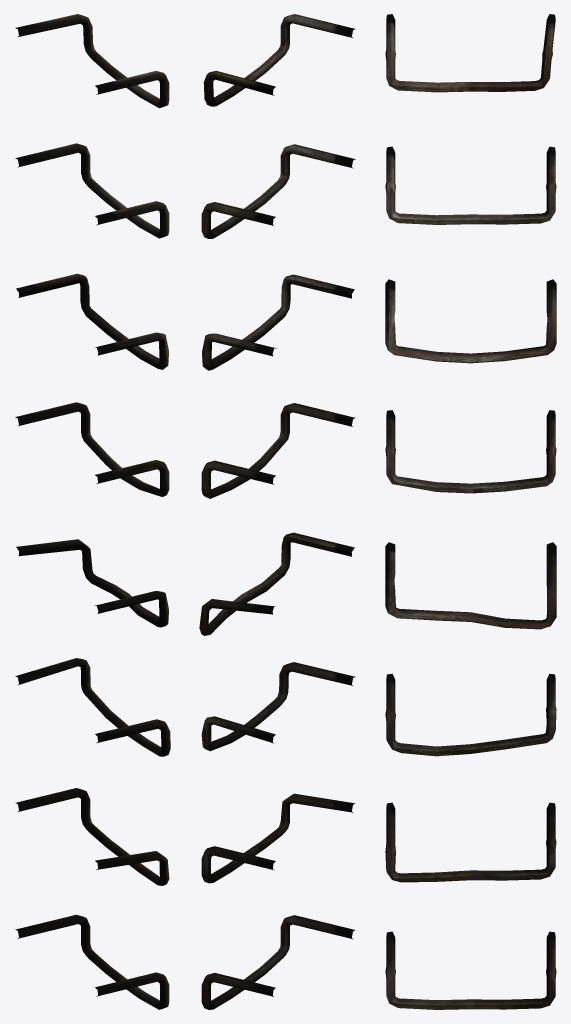
The model's file is ladderrung.glb.
The picture shows the model from 3 angles, left to right: view 1: azimuth 30°, elevation 25°; view 2: azimuth 150°, elevation 25°; view 3: azimuth 270°, elevation 25°; orthographic projection.
Visible parts, largest first — view 1: 0_LadderRung; view 2: 0_LadderRung; view 3: 0_LadderRung.
Boxes of the visible parts, bbox=[...] form: 0_LadderRung: bbox=[15, 14, 170, 1009]; 0_LadderRung: bbox=[199, 14, 355, 1009]; 0_LadderRung: bbox=[385, 14, 556, 1009].
Size of the model in its own units: 0.2567 by 2.96 by 0.4773.
Materials: 1 (1 with a texture image).
